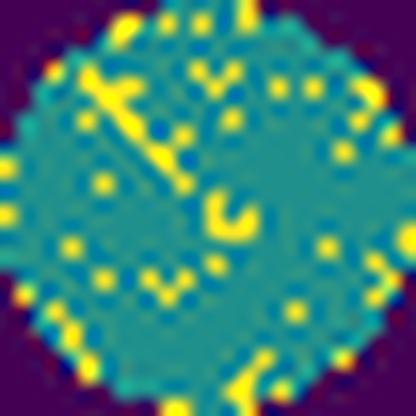Scratch: (72, 61, 202, 200)
